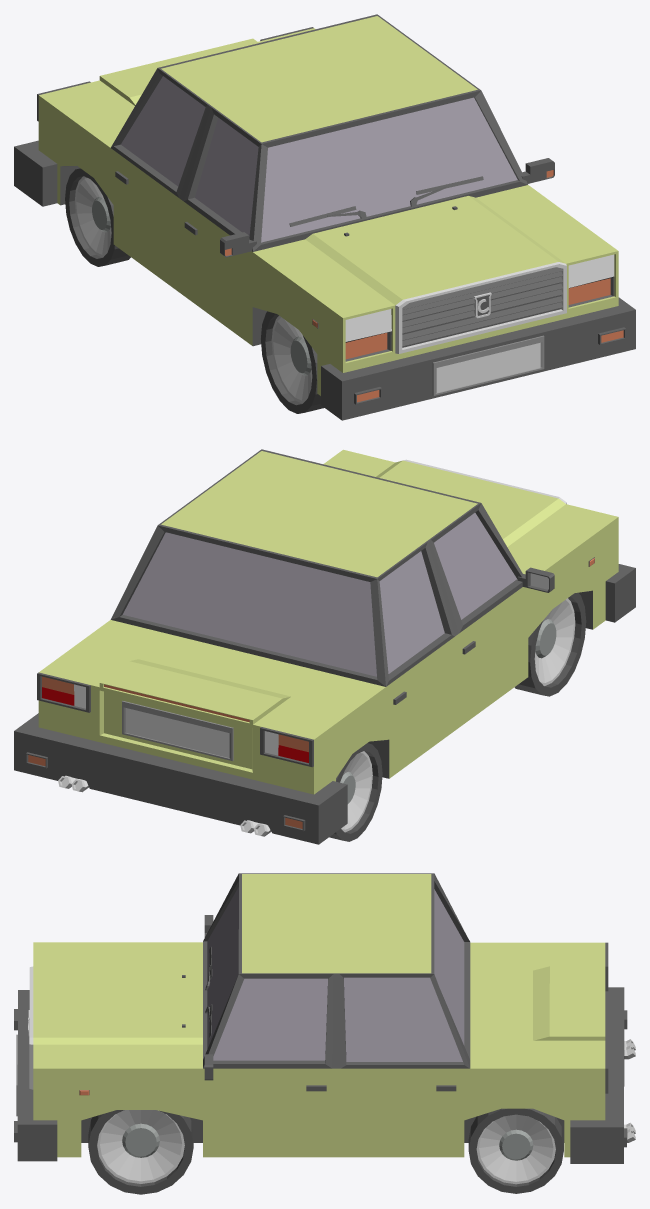
The model's file is cartoon_car.glb.
The picture shows the model from 3 angles, top to bottom: view 1: azimuth 30°, elevation 25°; view 2: azimuth 150°, elevation 25°; view 3: azimuth 270°, elevation 25°; orthographic projection. The views are drawn at different scales.
Visible parts, largest first — view 1: Cube.011, Cube.014, Cube.012; view 2: Cube.011, Cube.014, Cube.012; view 3: Cube.011, Cube.019, Cube.013.
Part boxes in pixels (x1,y1,x2,y2): Cube.011: [14, 14, 635, 420]; Cube.014: [261, 311, 324, 413]; Cube.012: [65, 168, 130, 266]; Cube.011: [14, 449, 635, 844]; Cube.014: [514, 592, 586, 696]; Cube.012: [329, 743, 382, 841]; Cube.011: [14, 873, 635, 1163]; Cube.019: [88, 1110, 193, 1194]; Cube.013: [468, 1108, 563, 1193].
Bounding box in the file's own units: 3.67 × 2.36 × 6.38.
